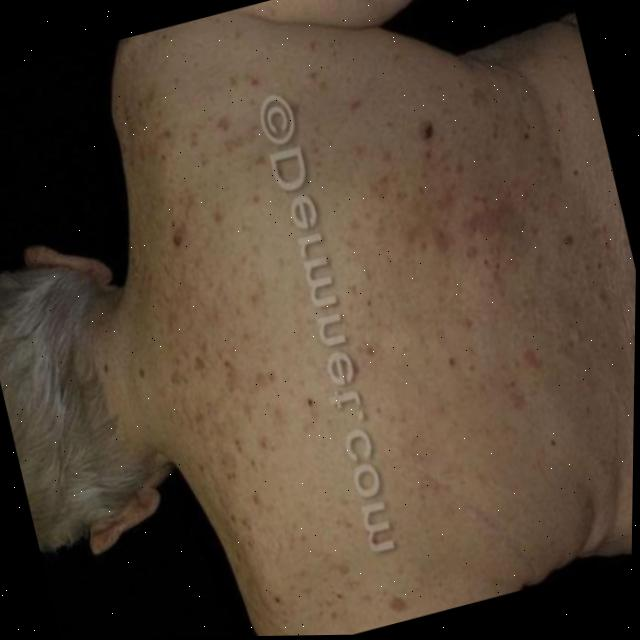Eczema: (110, 59, 354, 608), (375, 78, 571, 304)
